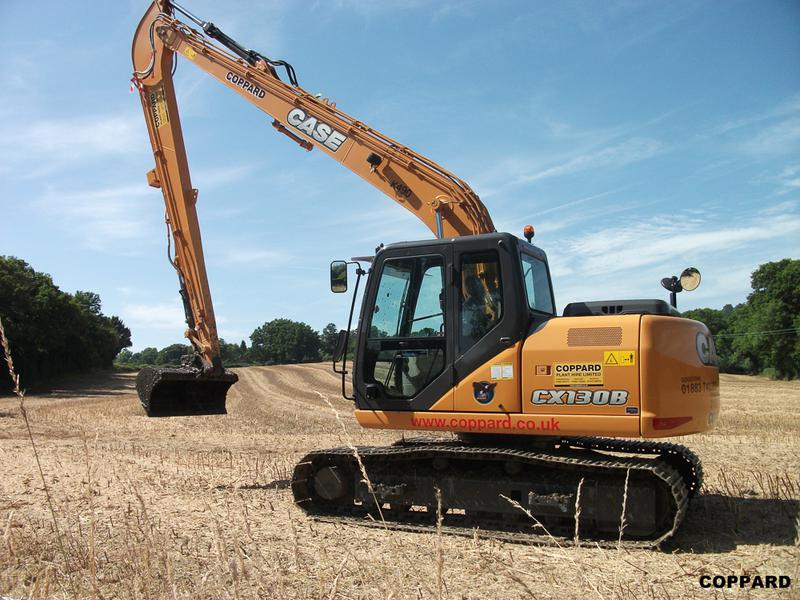shovel: (125, 3, 724, 560)
